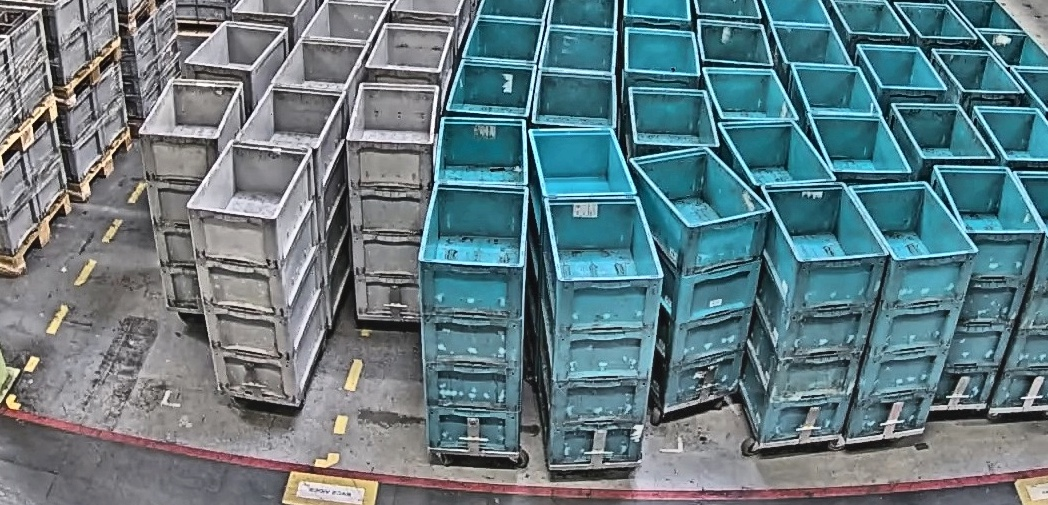4G: (186, 140, 328, 403), (137, 78, 247, 310), (345, 82, 440, 319)
B4: (737, 179, 891, 443), (627, 145, 773, 408), (536, 194, 665, 466), (845, 180, 979, 441), (417, 180, 530, 453), (919, 164, 1042, 408)
